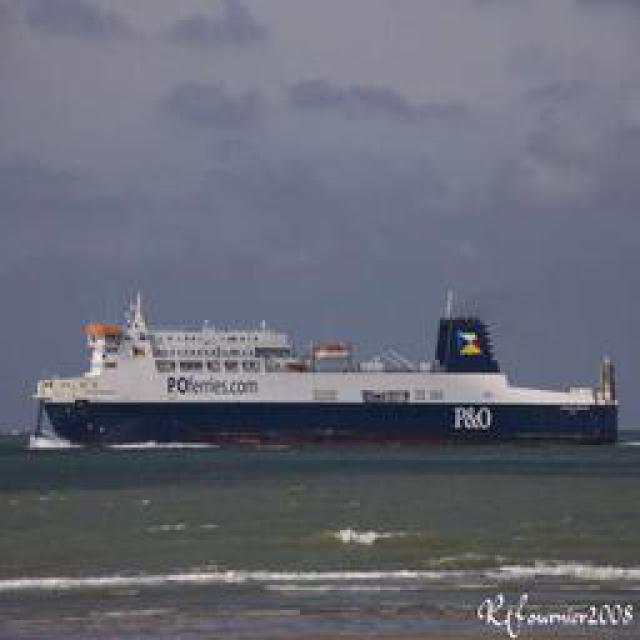Ship: (21, 275, 629, 450)
